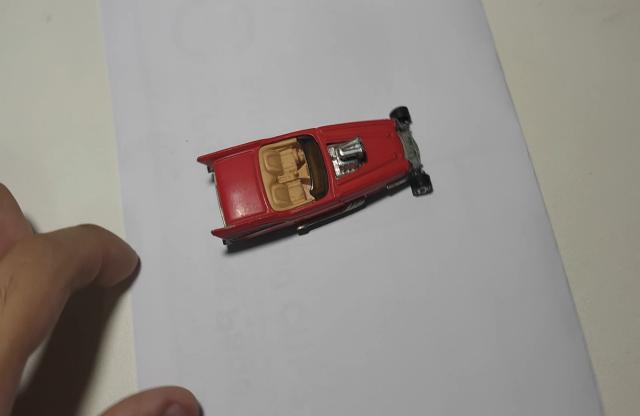03_V8: (197, 107, 434, 257)
